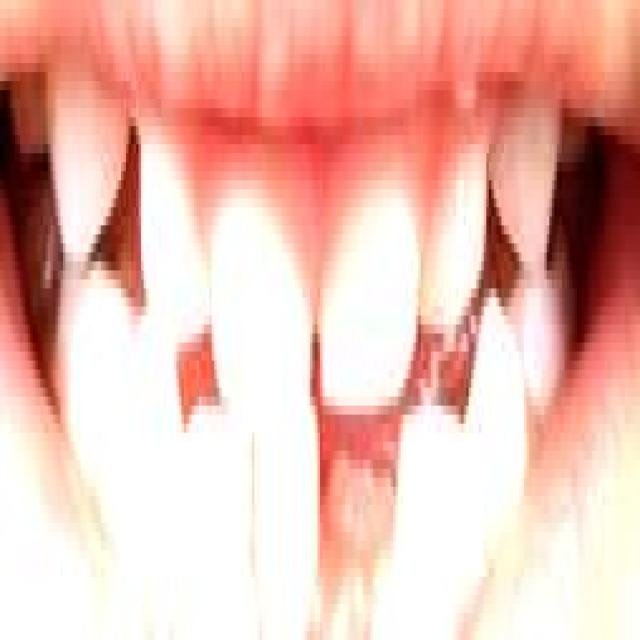caries: (330, 424, 407, 574)
